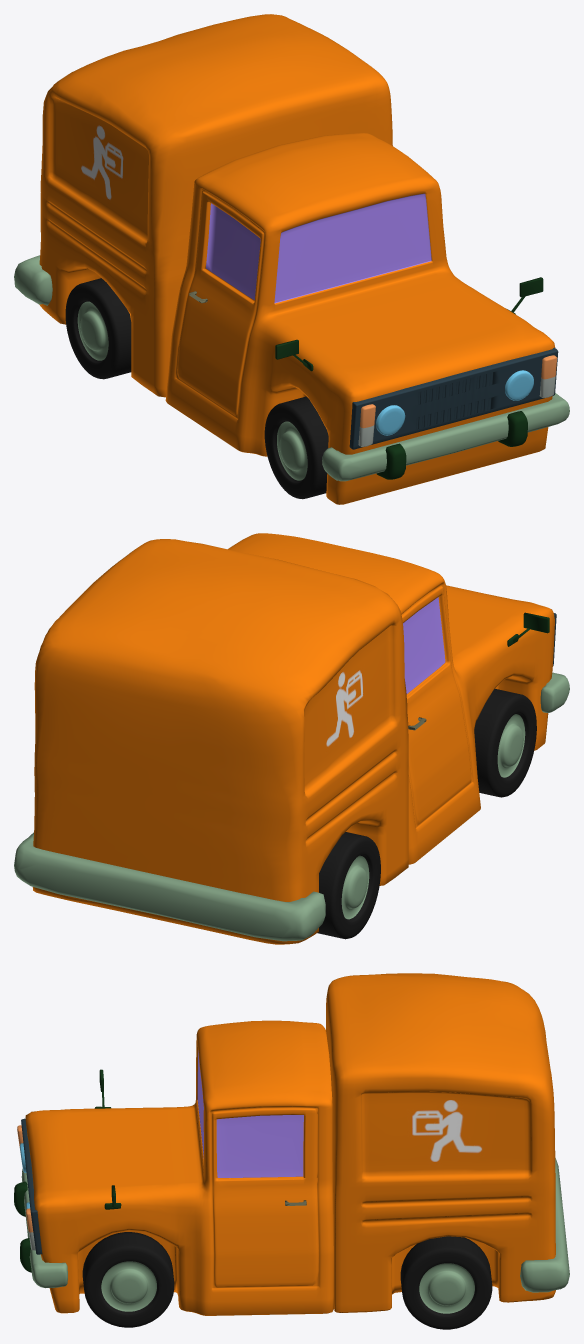
The model's file is deliverytruck@idle.fbx.
The picture shows the model from 3 angles, top to bottom: view 1: azimuth 30°, elevation 25°; view 2: azimuth 150°, elevation 25°; view 3: azimuth 270°, elevation 25°; orthographic projection. The views are drawn at different scales.
Visible parts, largest first — view 1: polySurface427, polySurface439, polySurface431; view 2: polySurface427, polySurface431, polySurface439; view 3: polySurface427, polySurface432, polySurface440.
Boxes of the visible parts, bbox=[...] form: polySurface427: bbox=[14, 14, 569, 504]; polySurface439: bbox=[65, 278, 131, 379]; polySurface431: bbox=[264, 396, 328, 499]; polySurface427: bbox=[14, 533, 569, 944]; polySurface431: bbox=[474, 688, 536, 797]; polySurface439: bbox=[317, 832, 380, 939]; polySurface427: bbox=[14, 973, 569, 1315]; polySurface432: bbox=[82, 1232, 174, 1327]; polySurface440: bbox=[400, 1236, 492, 1329].
Bounding box in the file's own units: 8.41 × 7.99 × 15.1.
Materials: 1 (1 with a texture image).
